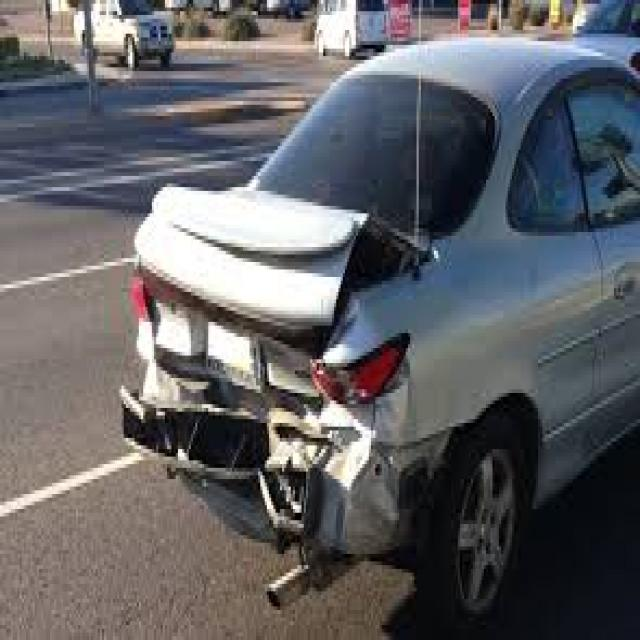moderate: (108, 158, 446, 556)
